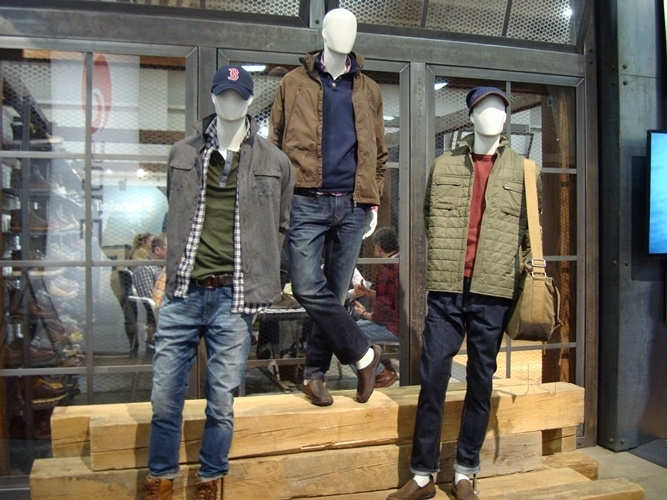person-like: (138, 60, 298, 500), (382, 84, 547, 500), (263, 4, 393, 407)
